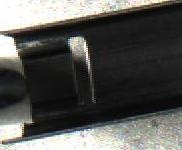press: (0, 12, 127, 144), (154, 7, 182, 144)
